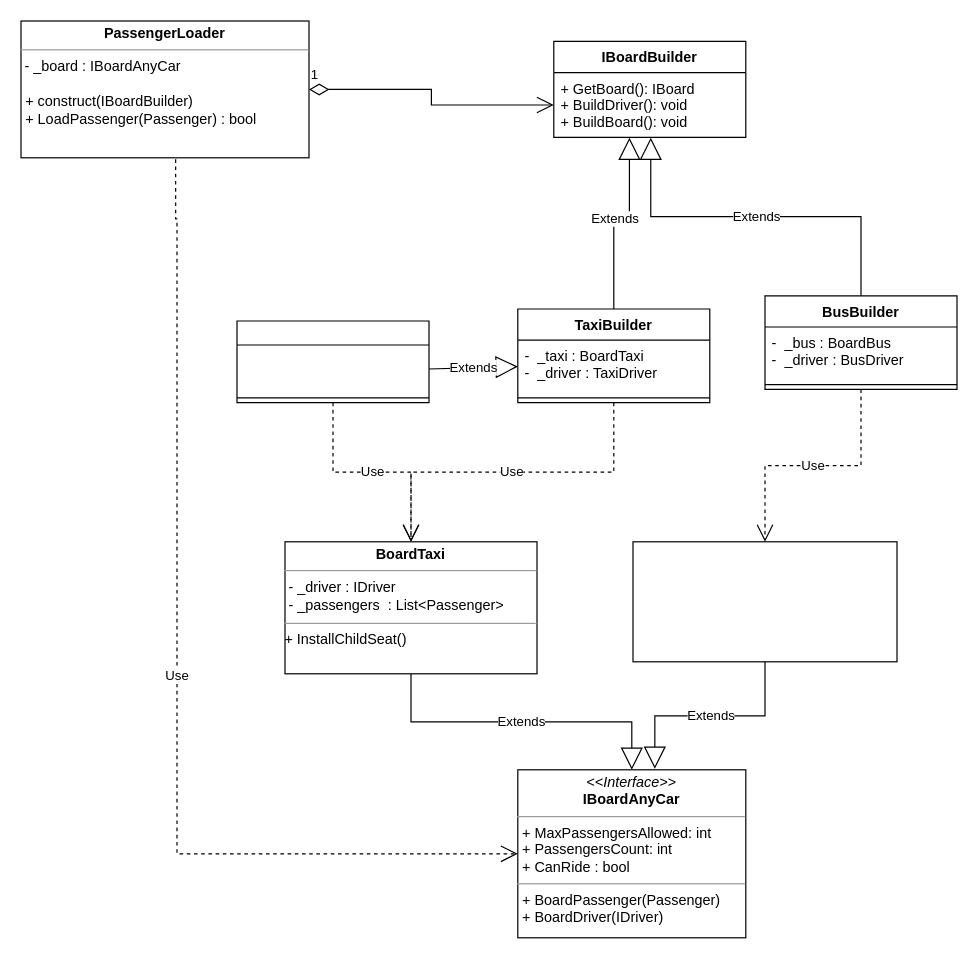
This 978x959 diagram has some shape labels left out. Here are the shapes that lost their labels. From the top down, the centre of each, then its label:
At (x=332, y=361): "TaxiWithChildSeatBuilder".
At (x=764, y=601): "BoardBus - _driver : IDriver - _passengers : List<Passenger>".
